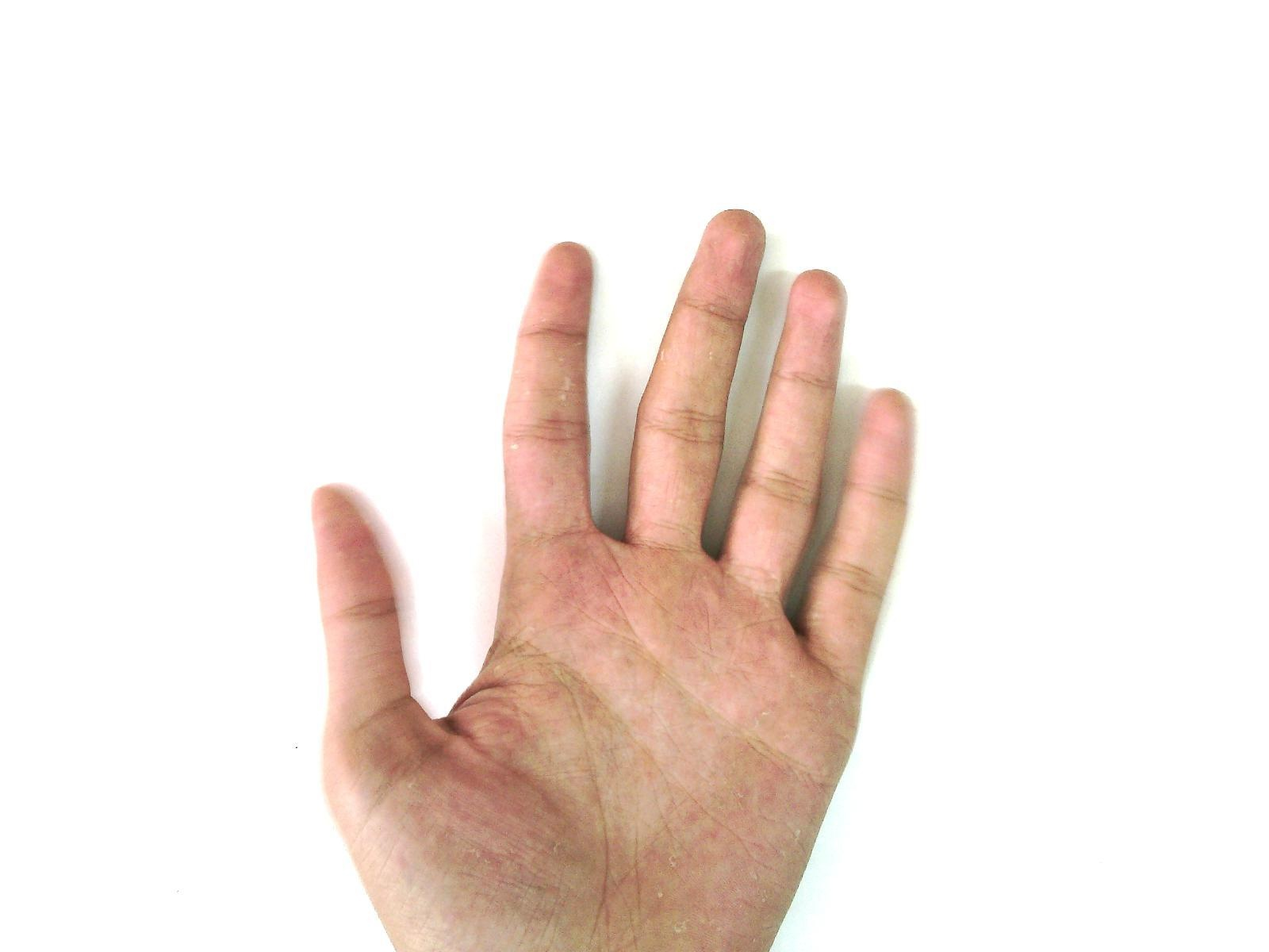open_palm: (308, 207, 921, 951)
